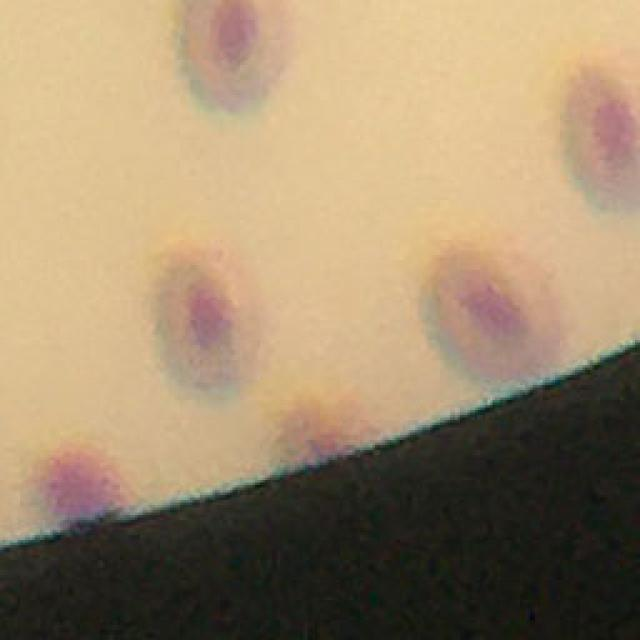RBC: (416, 237, 571, 395), (146, 240, 272, 404), (173, 0, 290, 117), (561, 71, 640, 216)
WBC: (28, 443, 122, 525)
